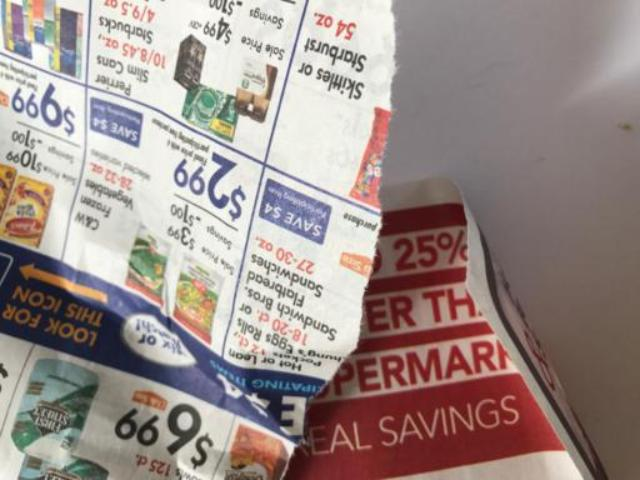cardboard paper: (286, 178, 601, 476)
